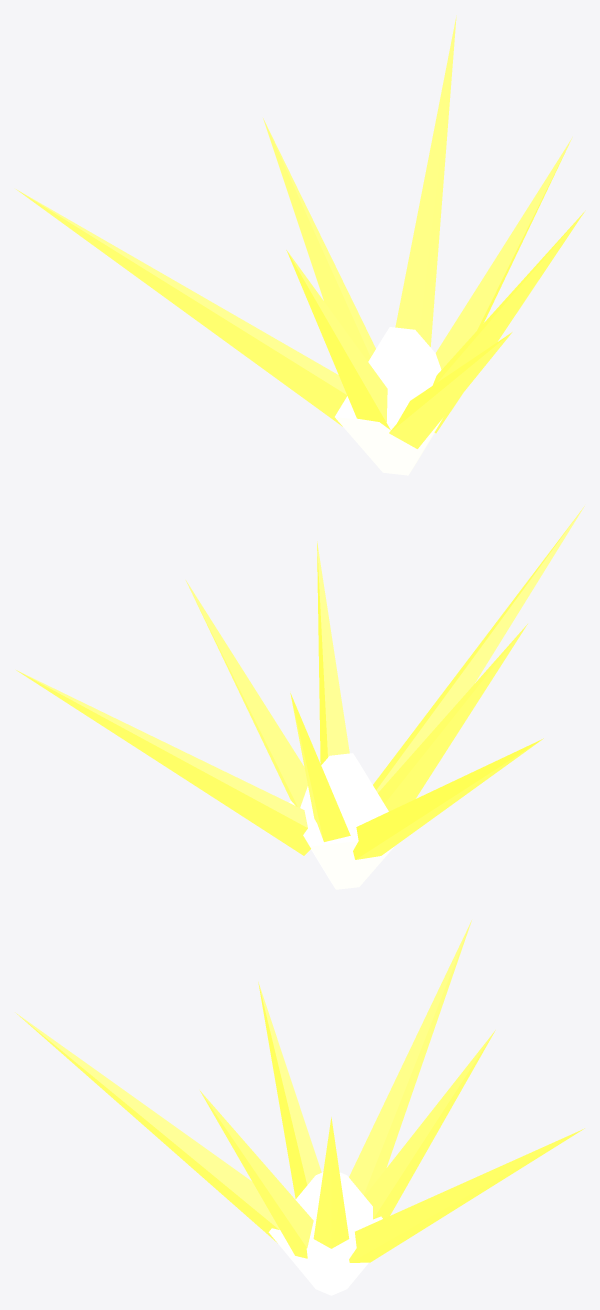
The model's file is vfx_impact_spark.glb.
3 views of the same model, one above another, from view 1: azimuth 30°, elevation 25°; view 2: azimuth 150°, elevation 25°; view 3: azimuth 270°, elevation 25° (orthographic). The views are drawn at different scales.
Visible parts, largest first — view 1: VFX_Impact_Spark; view 2: VFX_Impact_Spark; view 3: VFX_Impact_Spark.
Part boxes in pixels (x1,y1,x2,y2): VFX_Impact_Spark: [16, 15, 585, 475]; VFX_Impact_Spark: [16, 506, 584, 889]; VFX_Impact_Spark: [15, 920, 584, 1295].
Size of the model in its own units: 0.2528 by 0.1388 by 0.2913.
